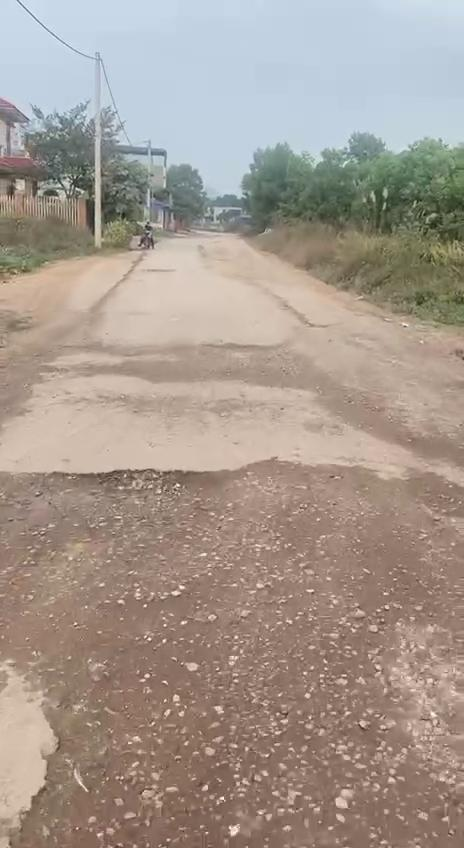pothole: (8, 661, 200, 848), (61, 462, 256, 528)
